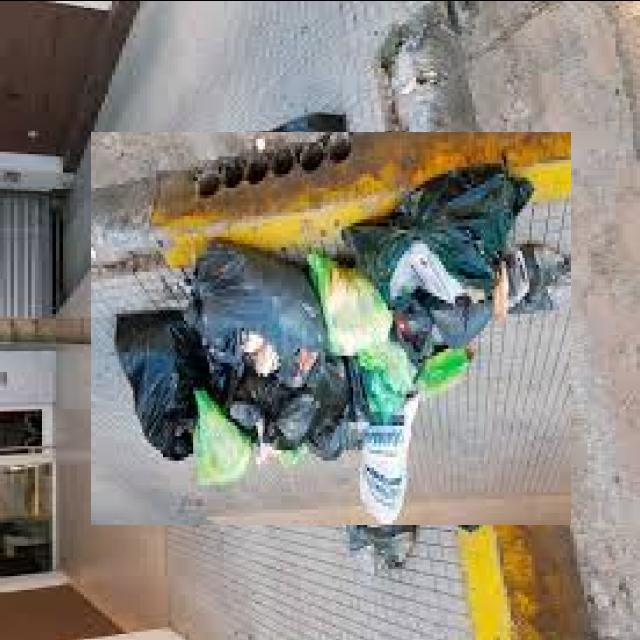garbage: (112, 109, 550, 546)
